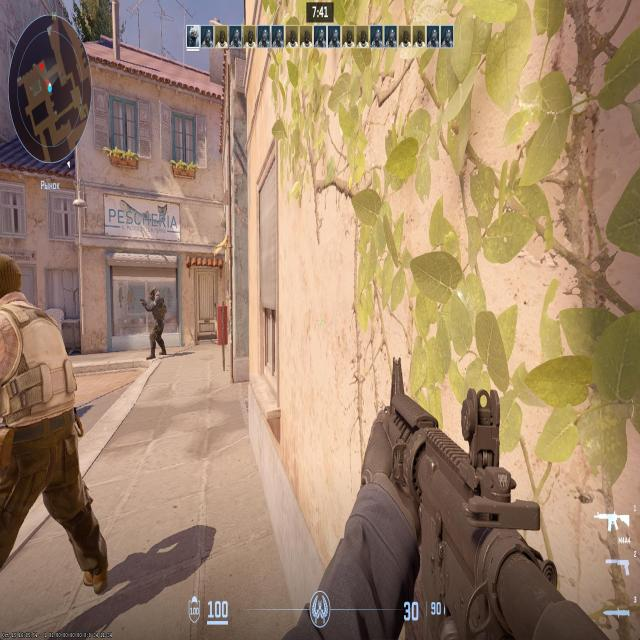CT: (149, 286, 162, 355)
CT_heat: (150, 285, 154, 304)
T: (2, 264, 69, 522)
T_heat: (6, 263, 21, 302)
